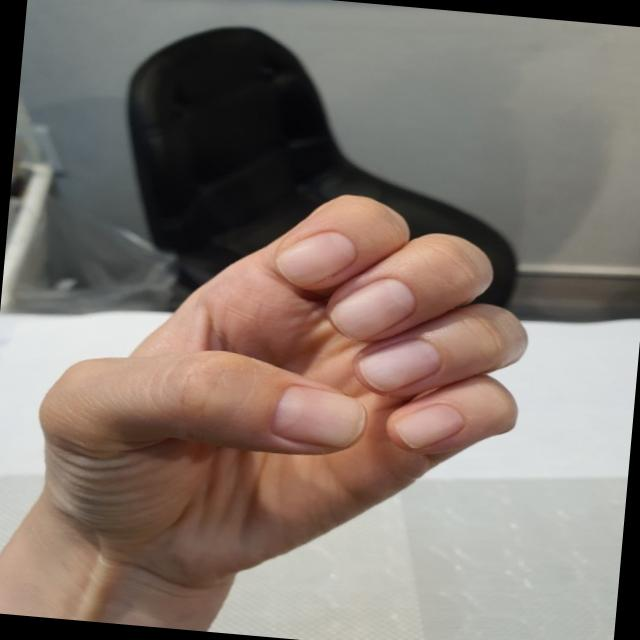Nail: (268, 385, 367, 447), (329, 278, 416, 340), (275, 232, 356, 286), (358, 339, 441, 391), (395, 404, 464, 449)
